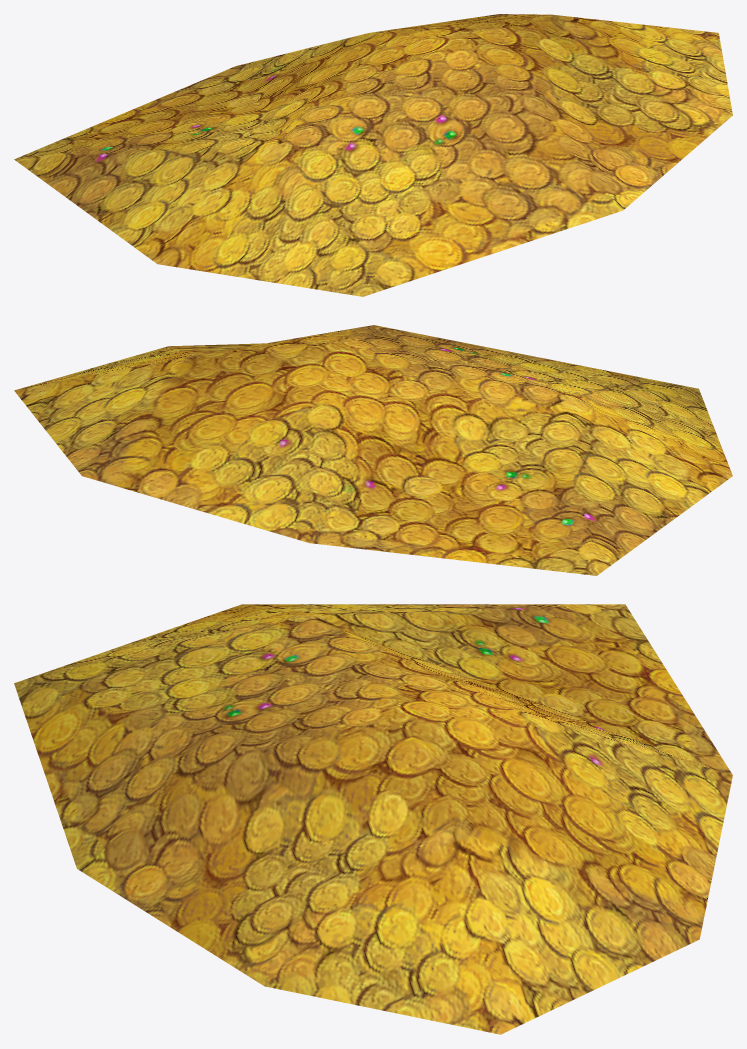
3 renders of one model, top to bottom at view 1: azimuth 30°, elevation 25°; view 2: azimuth 150°, elevation 25°; view 3: azimuth 270°, elevation 25°, orthographic. The views are drawn at different scales.
Visible parts, largest first — view 1: zw_jb1; view 2: zw_jb1; view 3: zw_jb1.
Part boxes in pixels (x1=…): zw_jb1: x1=14, y1=14, x2=732, y2=296; zw_jb1: x1=14, y1=325, x2=732, y2=575; zw_jb1: x1=14, y1=604, x2=732, y2=1034.
Bounding box in the file's own units: 98.6 × 13.27 × 69.58.
